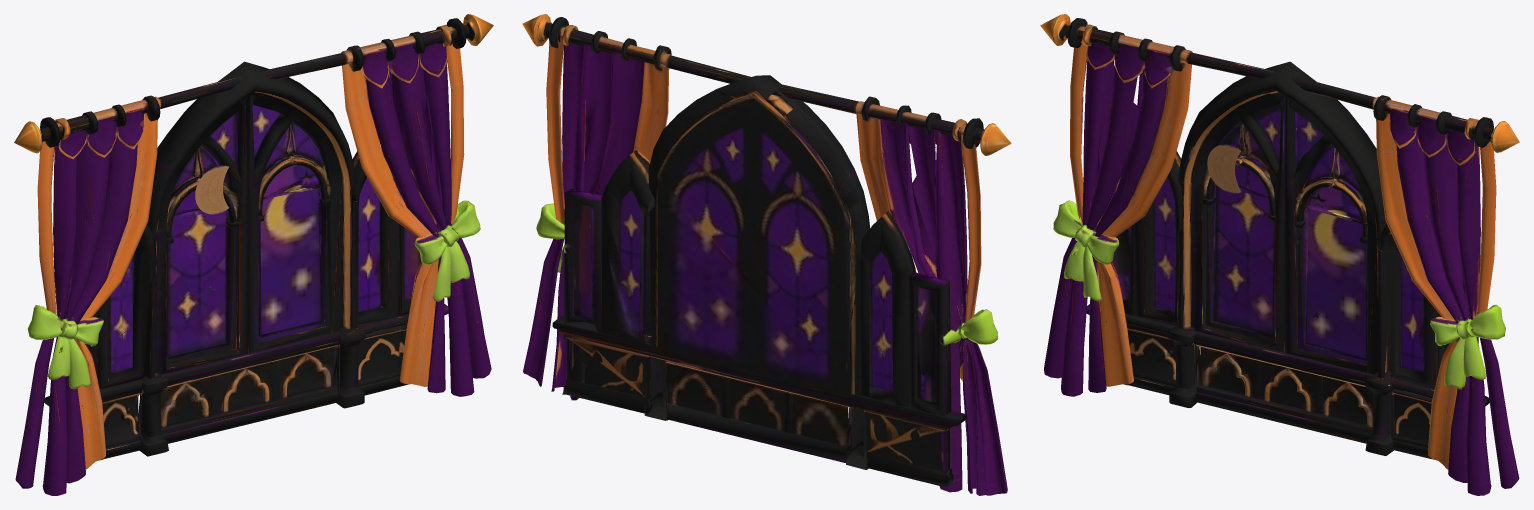
File: halloween_gothic_curtain_window.glb
3 views of the same model, side by side, from view 1: azimuth 30°, elevation 25°; view 2: azimuth 150°, elevation 25°; view 3: azimuth 330°, elevation 25° (orthographic).
Visible parts, largest first — view 1: furniture-fit; view 2: furniture-fit; view 3: furniture-fit.
Part boxes in pixels (x1,y1,x2,y2): furniture-fit: (14, 14, 493, 495); furniture-fit: (522, 14, 1011, 495); furniture-fit: (1040, 14, 1519, 495).
Size of the model in its own units: 3.6 by 2.65 by 0.3162.
Materials: 1 (1 with a texture image).
